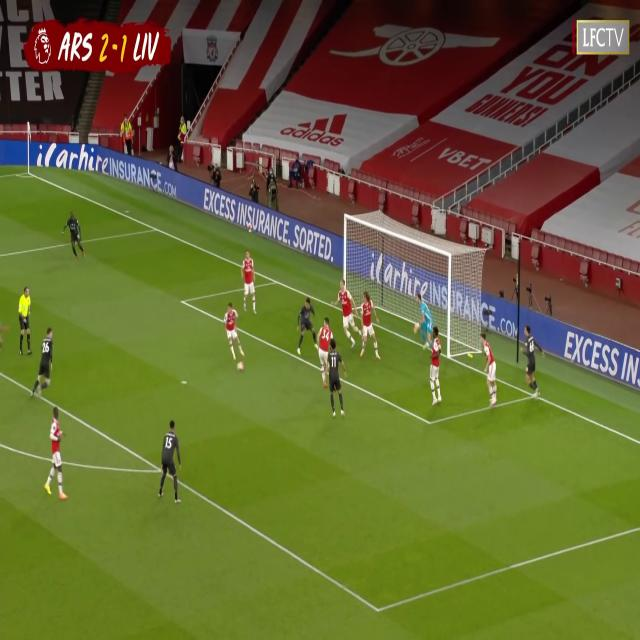Ball: (236, 360, 246, 372)
GoalKeeper: (414, 287, 434, 350)
TEAM 1: (156, 419, 184, 501), (328, 338, 348, 421), (521, 330, 542, 398), (37, 330, 56, 401), (296, 296, 318, 354), (64, 213, 84, 261)
TEAM 2: (358, 290, 382, 360), (49, 412, 68, 496), (337, 275, 357, 351), (313, 318, 335, 381), (224, 302, 246, 359), (482, 335, 499, 408), (428, 329, 443, 406), (241, 250, 258, 315)
